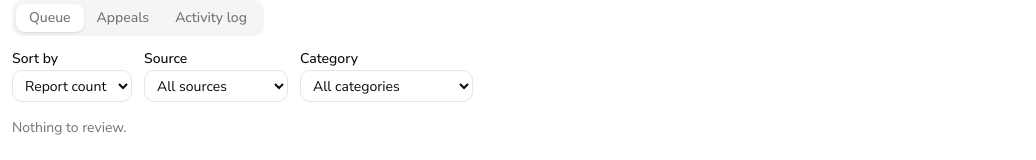
Test: ModerationDashboard › labels a content action in the activity log by its type (#539)
Check: the text "Nothing to review." is shown, box [12,118,126,137]
Click the tab "Activity log": (211, 18) [162,4,260,32]
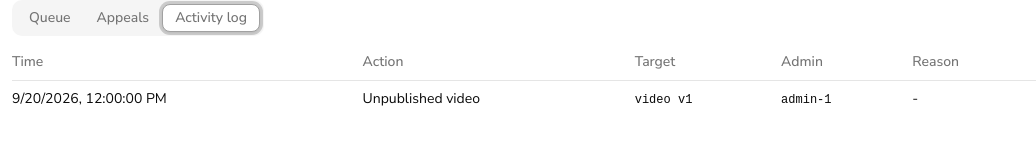
Check: the text "Unpublished video" is shown, box [362,80,635,117]
